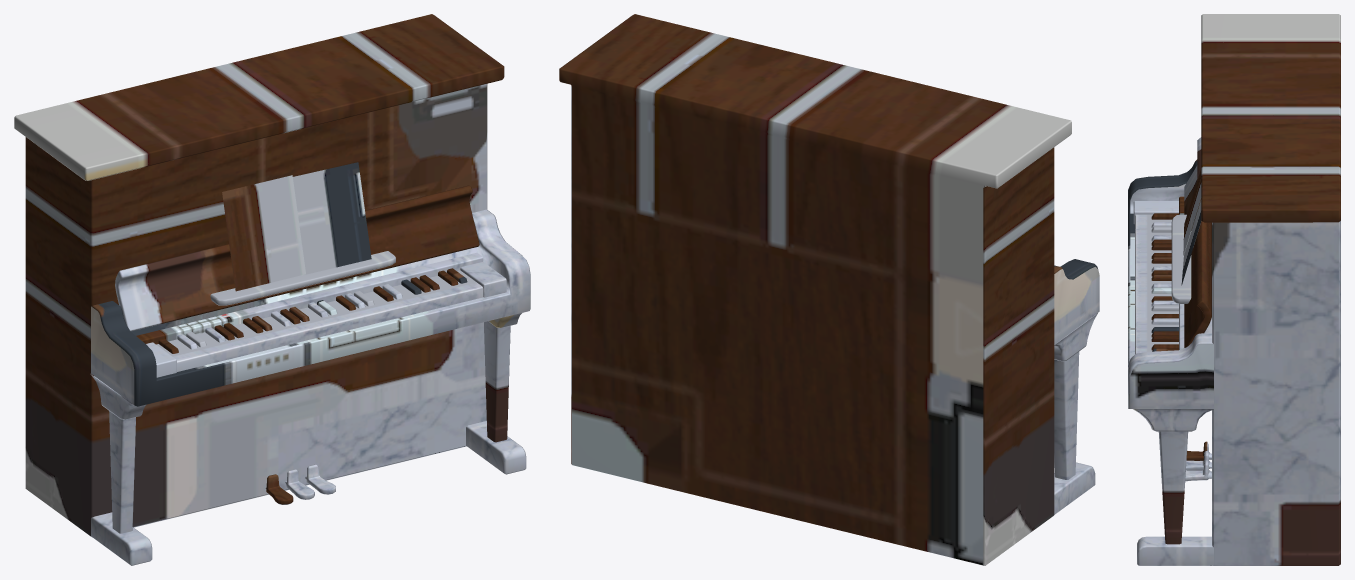
File: piano_verticale.fbx
The picture shows the model from 3 angles, left to right: view 1: azimuth 30°, elevation 25°; view 2: azimuth 150°, elevation 25°; view 3: azimuth 270°, elevation 25°; orthographic projection. The views are drawn at different scales.
Visible parts, largest first — view 1: PianoVerticale; view 2: PianoVerticale; view 3: PianoVerticale.
Boxes of the visible parts, left/top/right/bottom form: PianoVerticale: left=14, top=14, right=530, bottom=565; PianoVerticale: left=559, top=14, right=1099, bottom=565; PianoVerticale: left=1128, top=14, right=1340, bottom=565.
Bounding box in the file's own units: 472 × 405 × 216.
